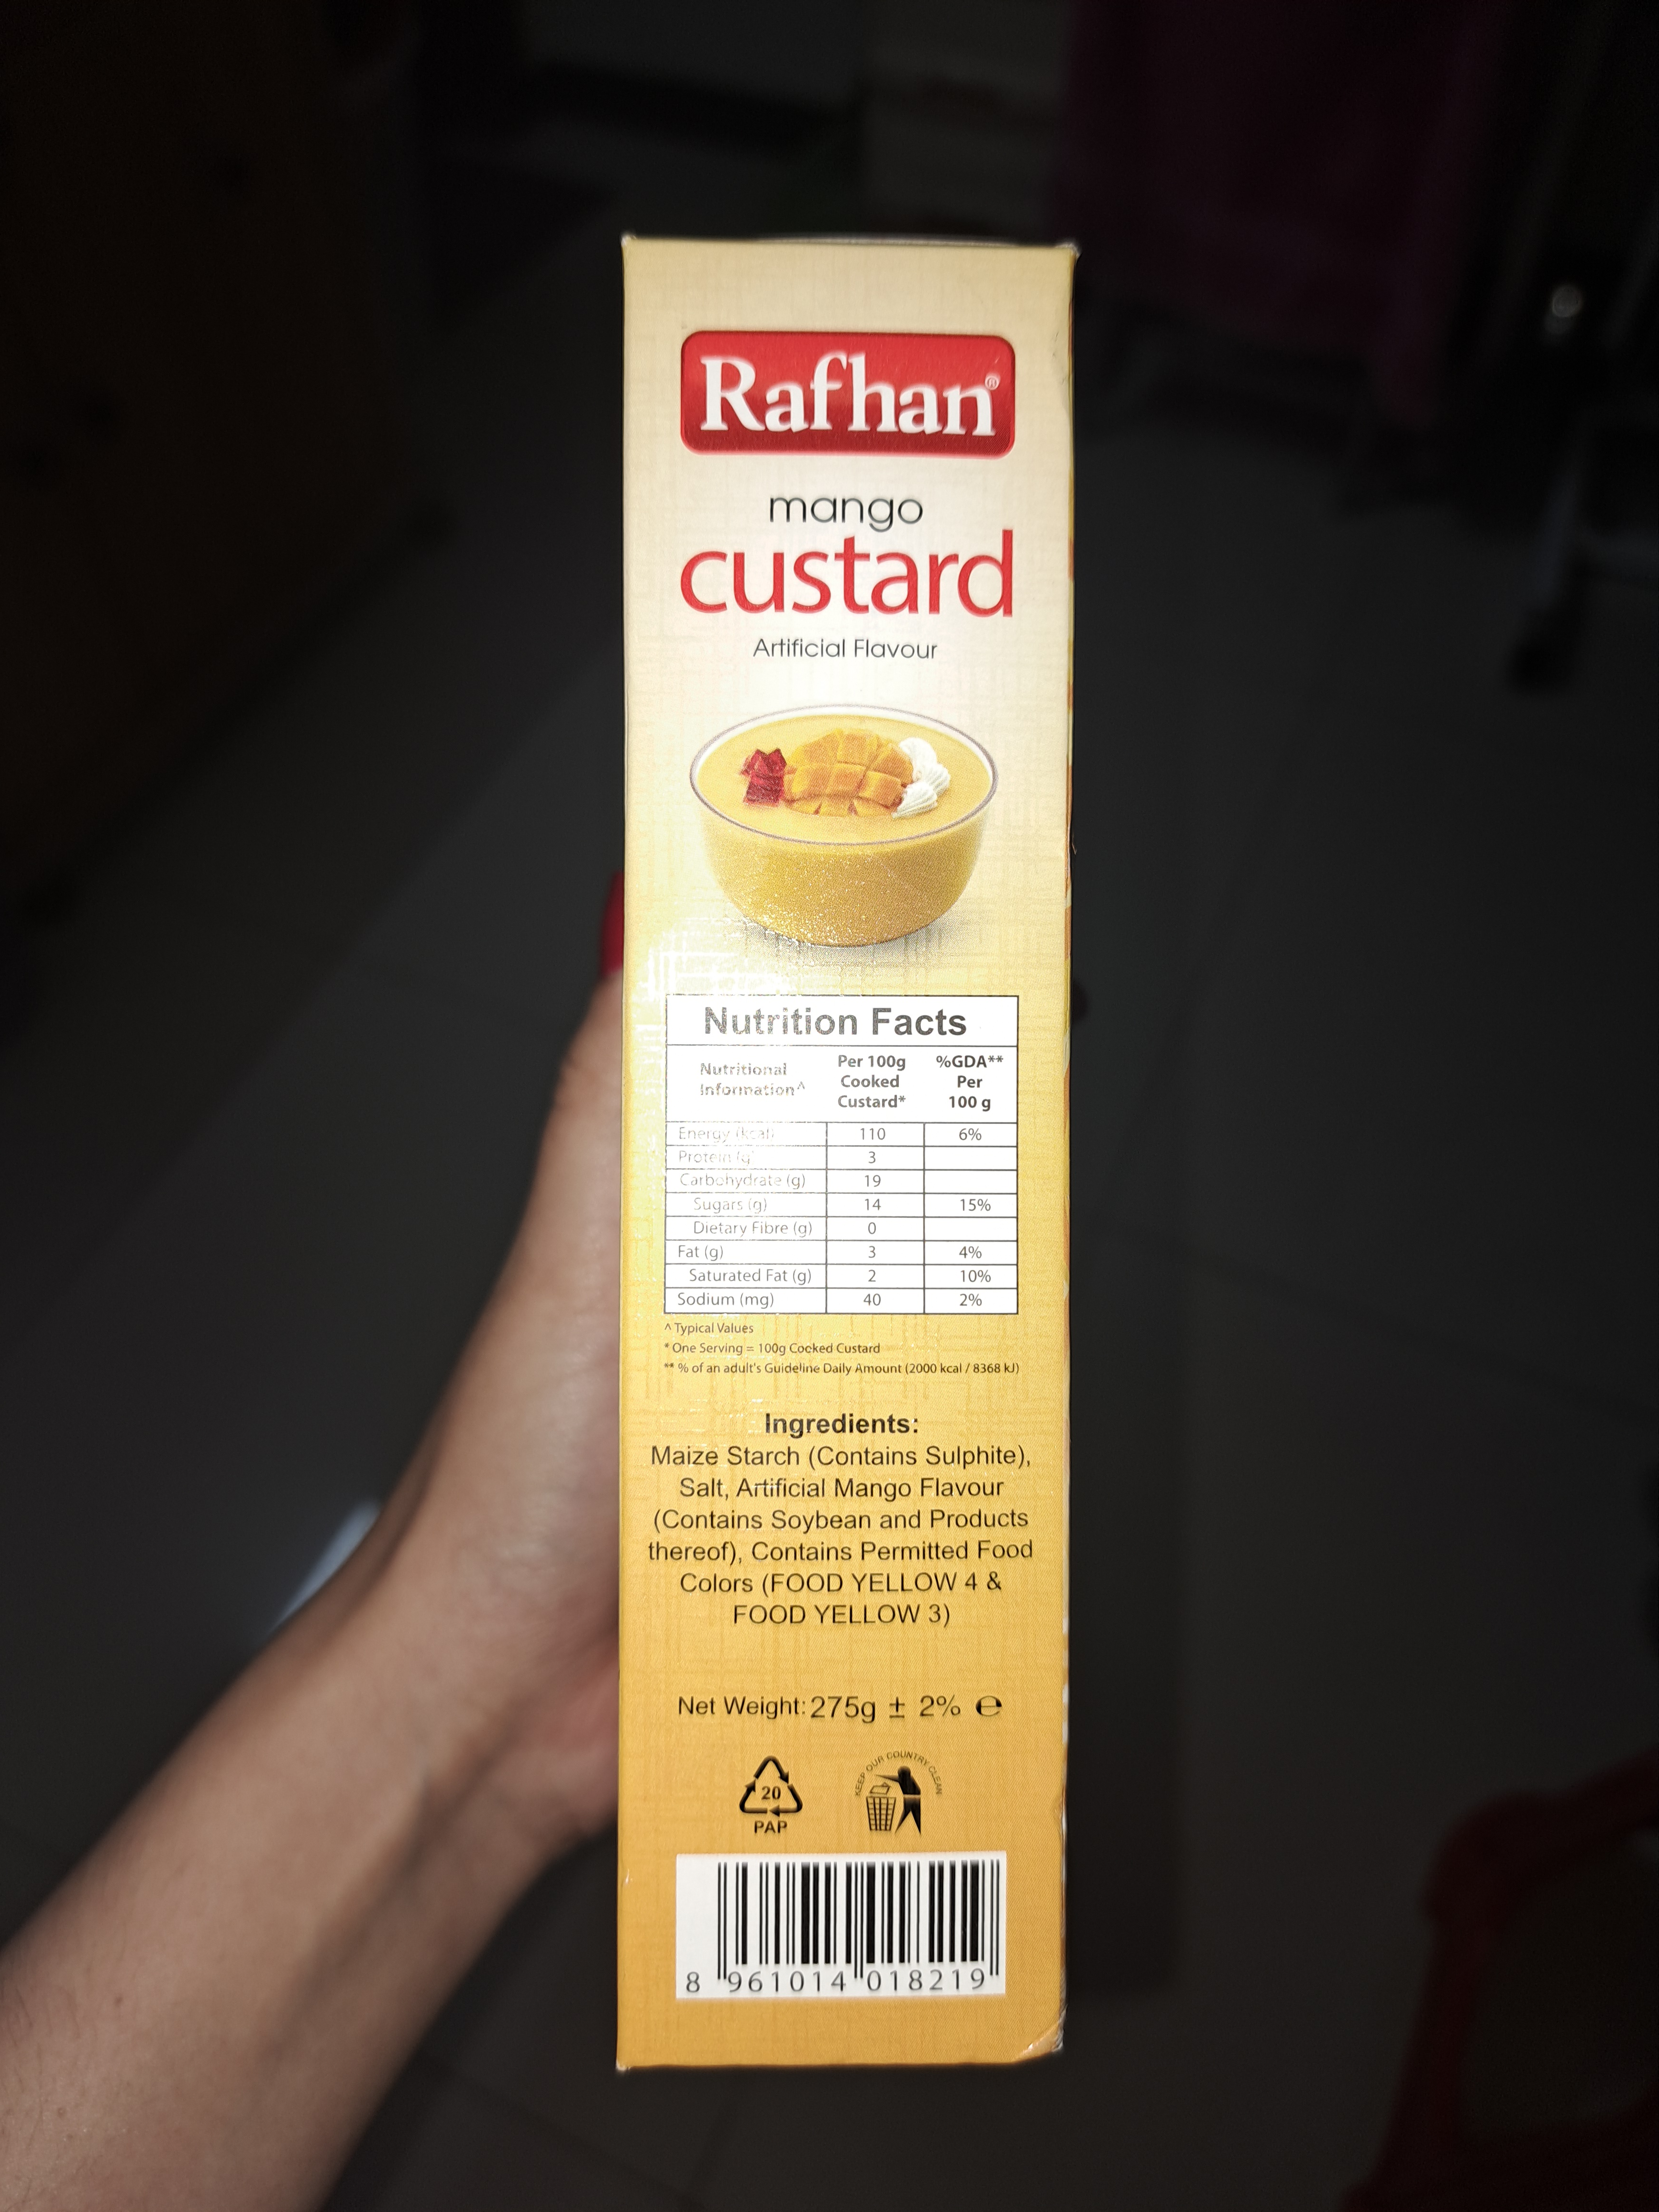table: (660, 993, 1021, 1317)
